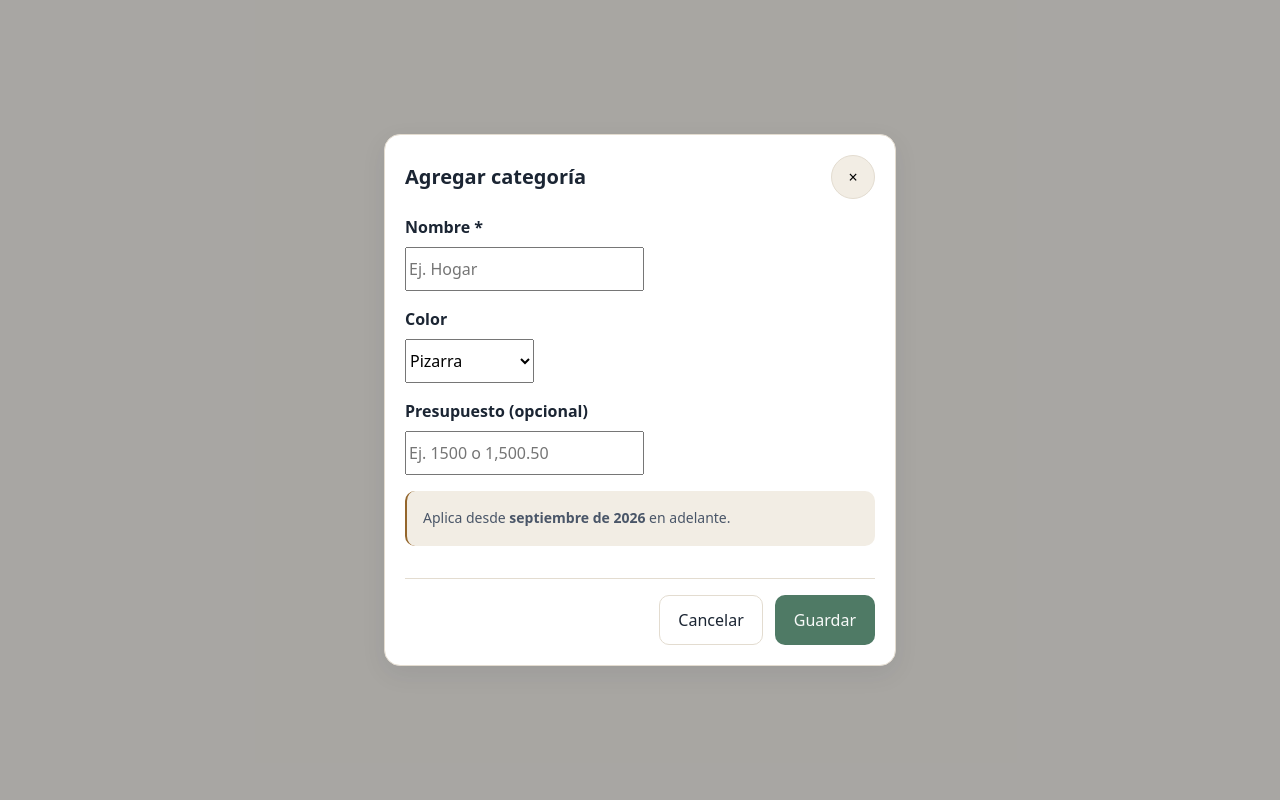
Test: CategoriaForm › validates duplicate name
The width and height of the screenshot is (1280, 800).
Type "Hogar" into the field with placeholder "Ej. Hogar" at (524, 269), box 405,247 -> 644,291
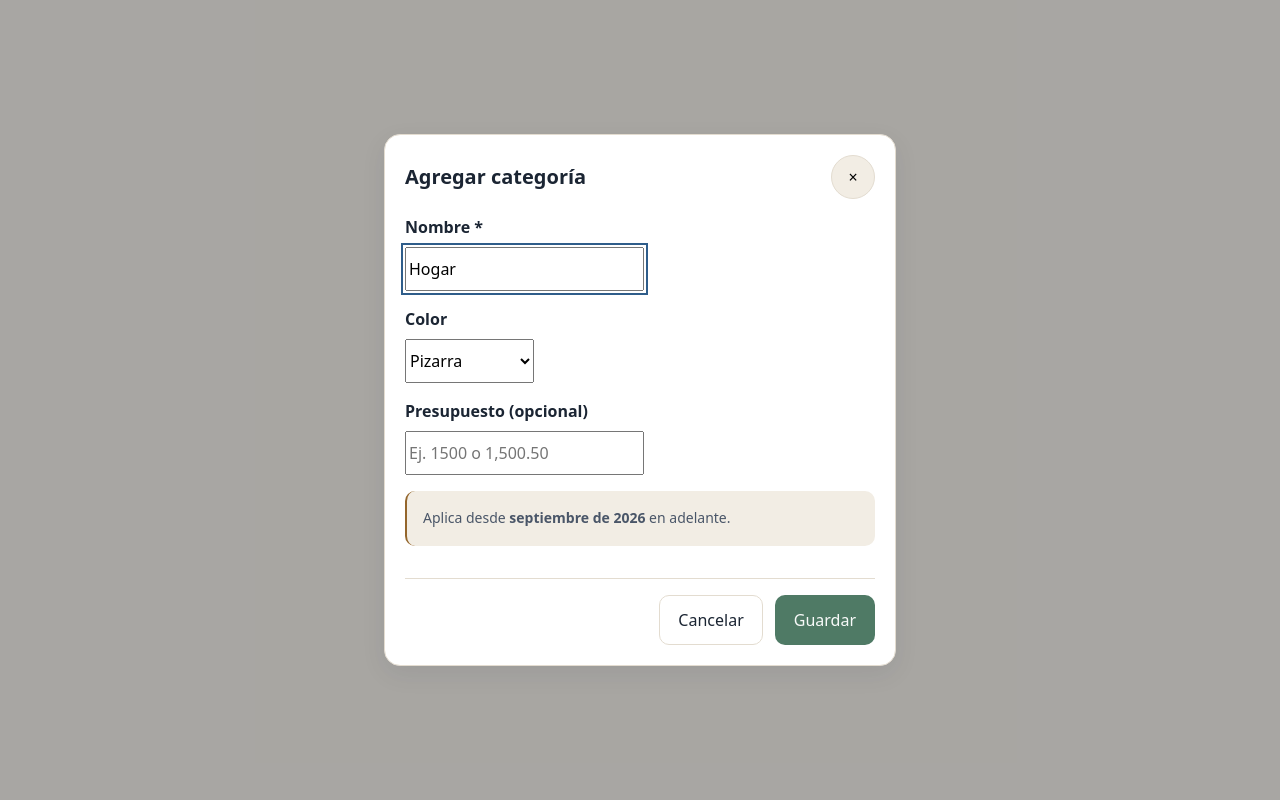
Click the button "Guardar" at (825, 620), box 775,595 -> 875,645
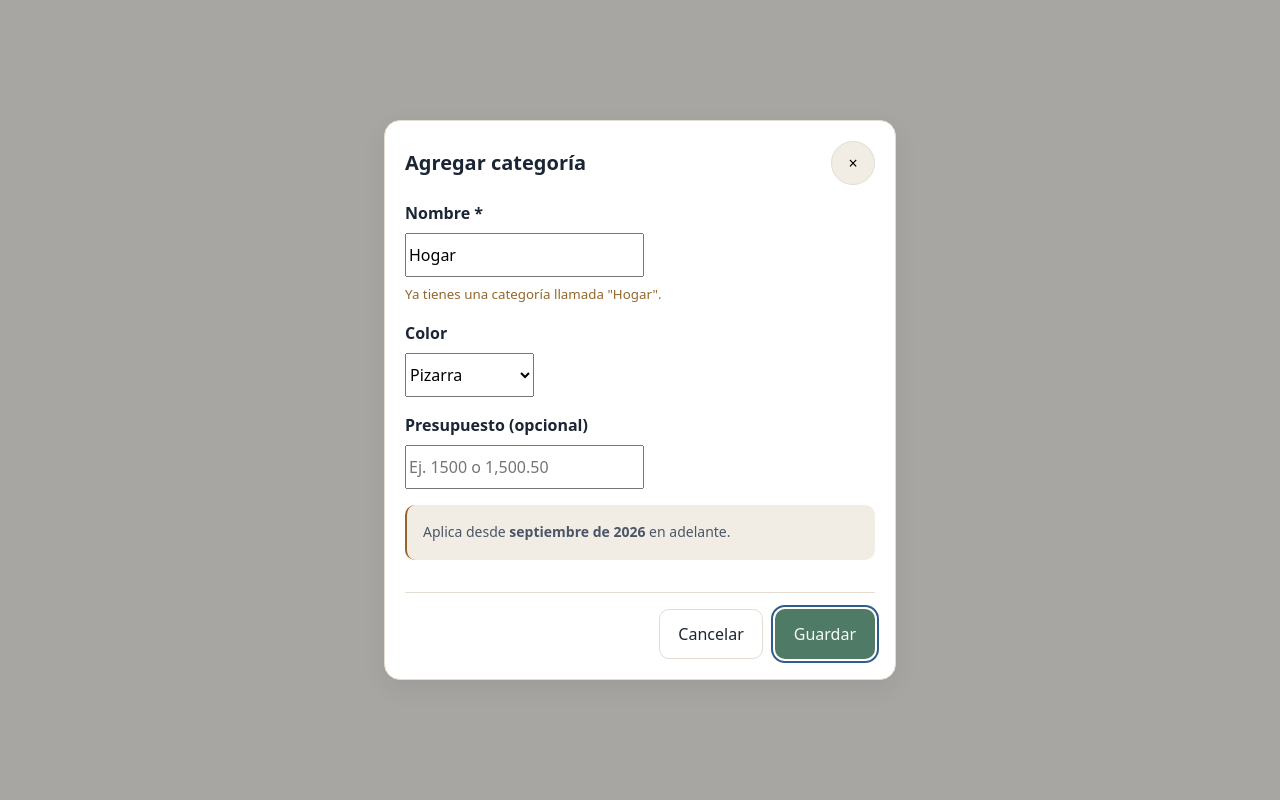
Expected: the text "Ya tienes una categoría llamada \"Hogar\"." is shown, 405,285 -> 662,303
